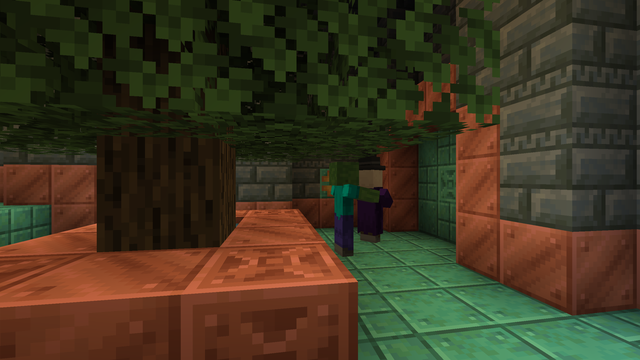sorcieres: (364, 166, 384, 242)
zombies: (327, 164, 360, 257)
